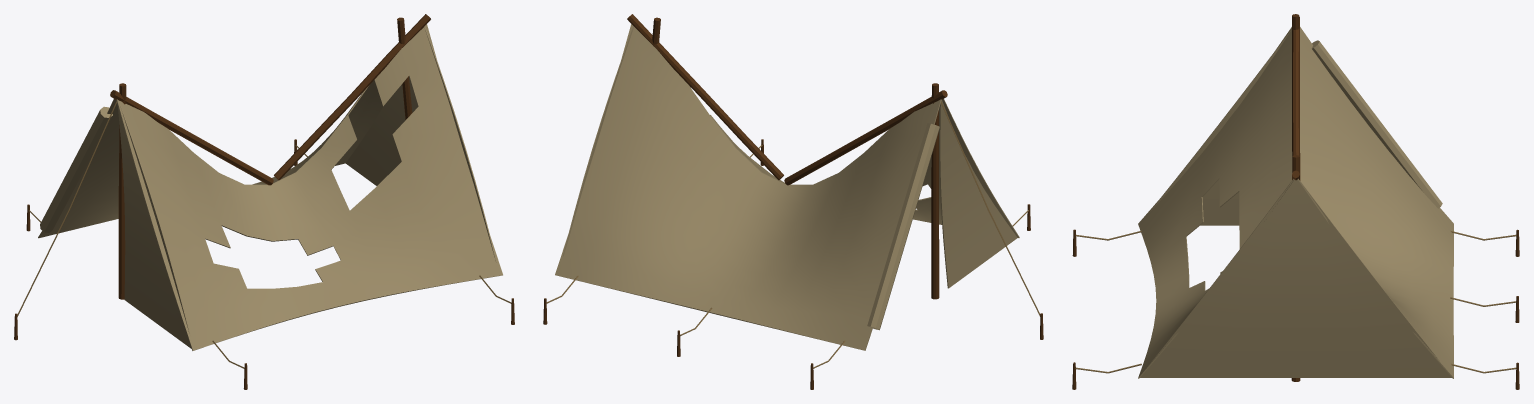
Rendered from zelt_kaputt.glb.
3 renders of one model, left to right at view 1: azimuth 30°, elevation 25°; view 2: azimuth 150°, elevation 25°; view 3: azimuth 270°, elevation 25°, orthographic. The views are drawn at different scales.
Visible parts, largest first — view 1: zelt_kaputt; view 2: zelt_kaputt; view 3: zelt_kaputt.
Part boxes in pixels (<box>): zelt_kaputt: <box>14,14,514,389</box>; zelt_kaputt: <box>543,14,1043,389</box>; zelt_kaputt: <box>1072,14,1519,389</box>.
Bounding box in the file's own units: 3.43 × 1.8 × 3.13.
